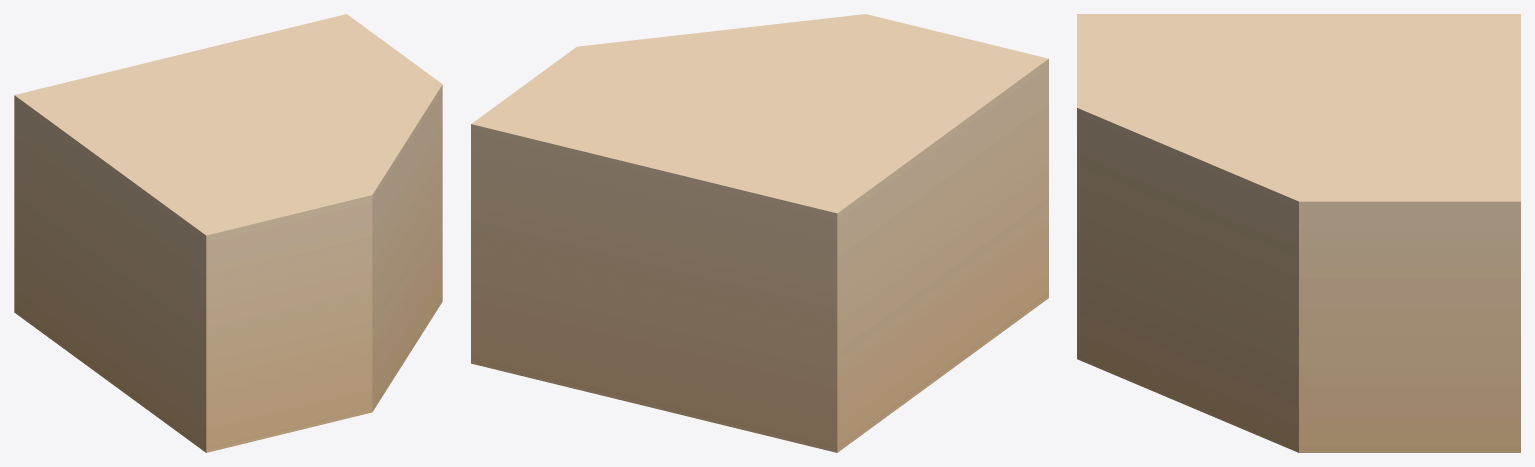
The model's file is building-corner.glb.
The picture shows the model from 3 angles, left to right: view 1: azimuth 30°, elevation 25°; view 2: azimuth 150°, elevation 25°; view 3: azimuth 270°, elevation 25°; orthographic projection. The views are drawn at different scales.
Visible parts, largest first — view 1: building-corner; view 2: building-corner; view 3: building-corner.
Part boxes in pixels (box(x1,y1,x2,y2)): building-corner: box(14, 14, 442, 452); building-corner: box(471, 14, 1048, 452); building-corner: box(1077, 14, 1520, 452).
Size of the model in its own units: 1 by 0.625 by 1.
Materials: 1 (1 with a texture image).
